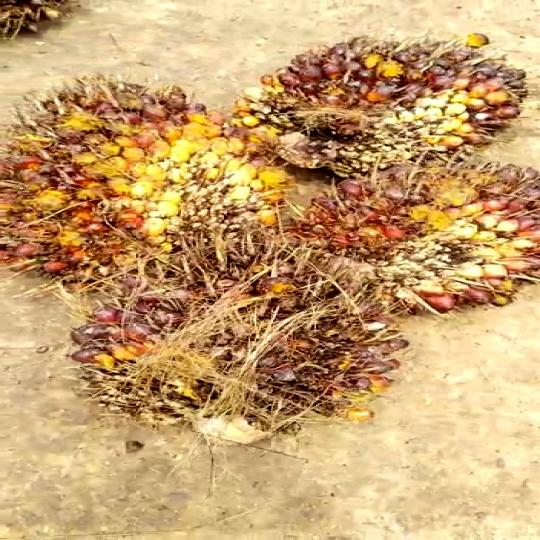masak: (73, 231, 406, 444), (0, 71, 278, 302), (310, 150, 540, 323), (232, 29, 528, 154)
